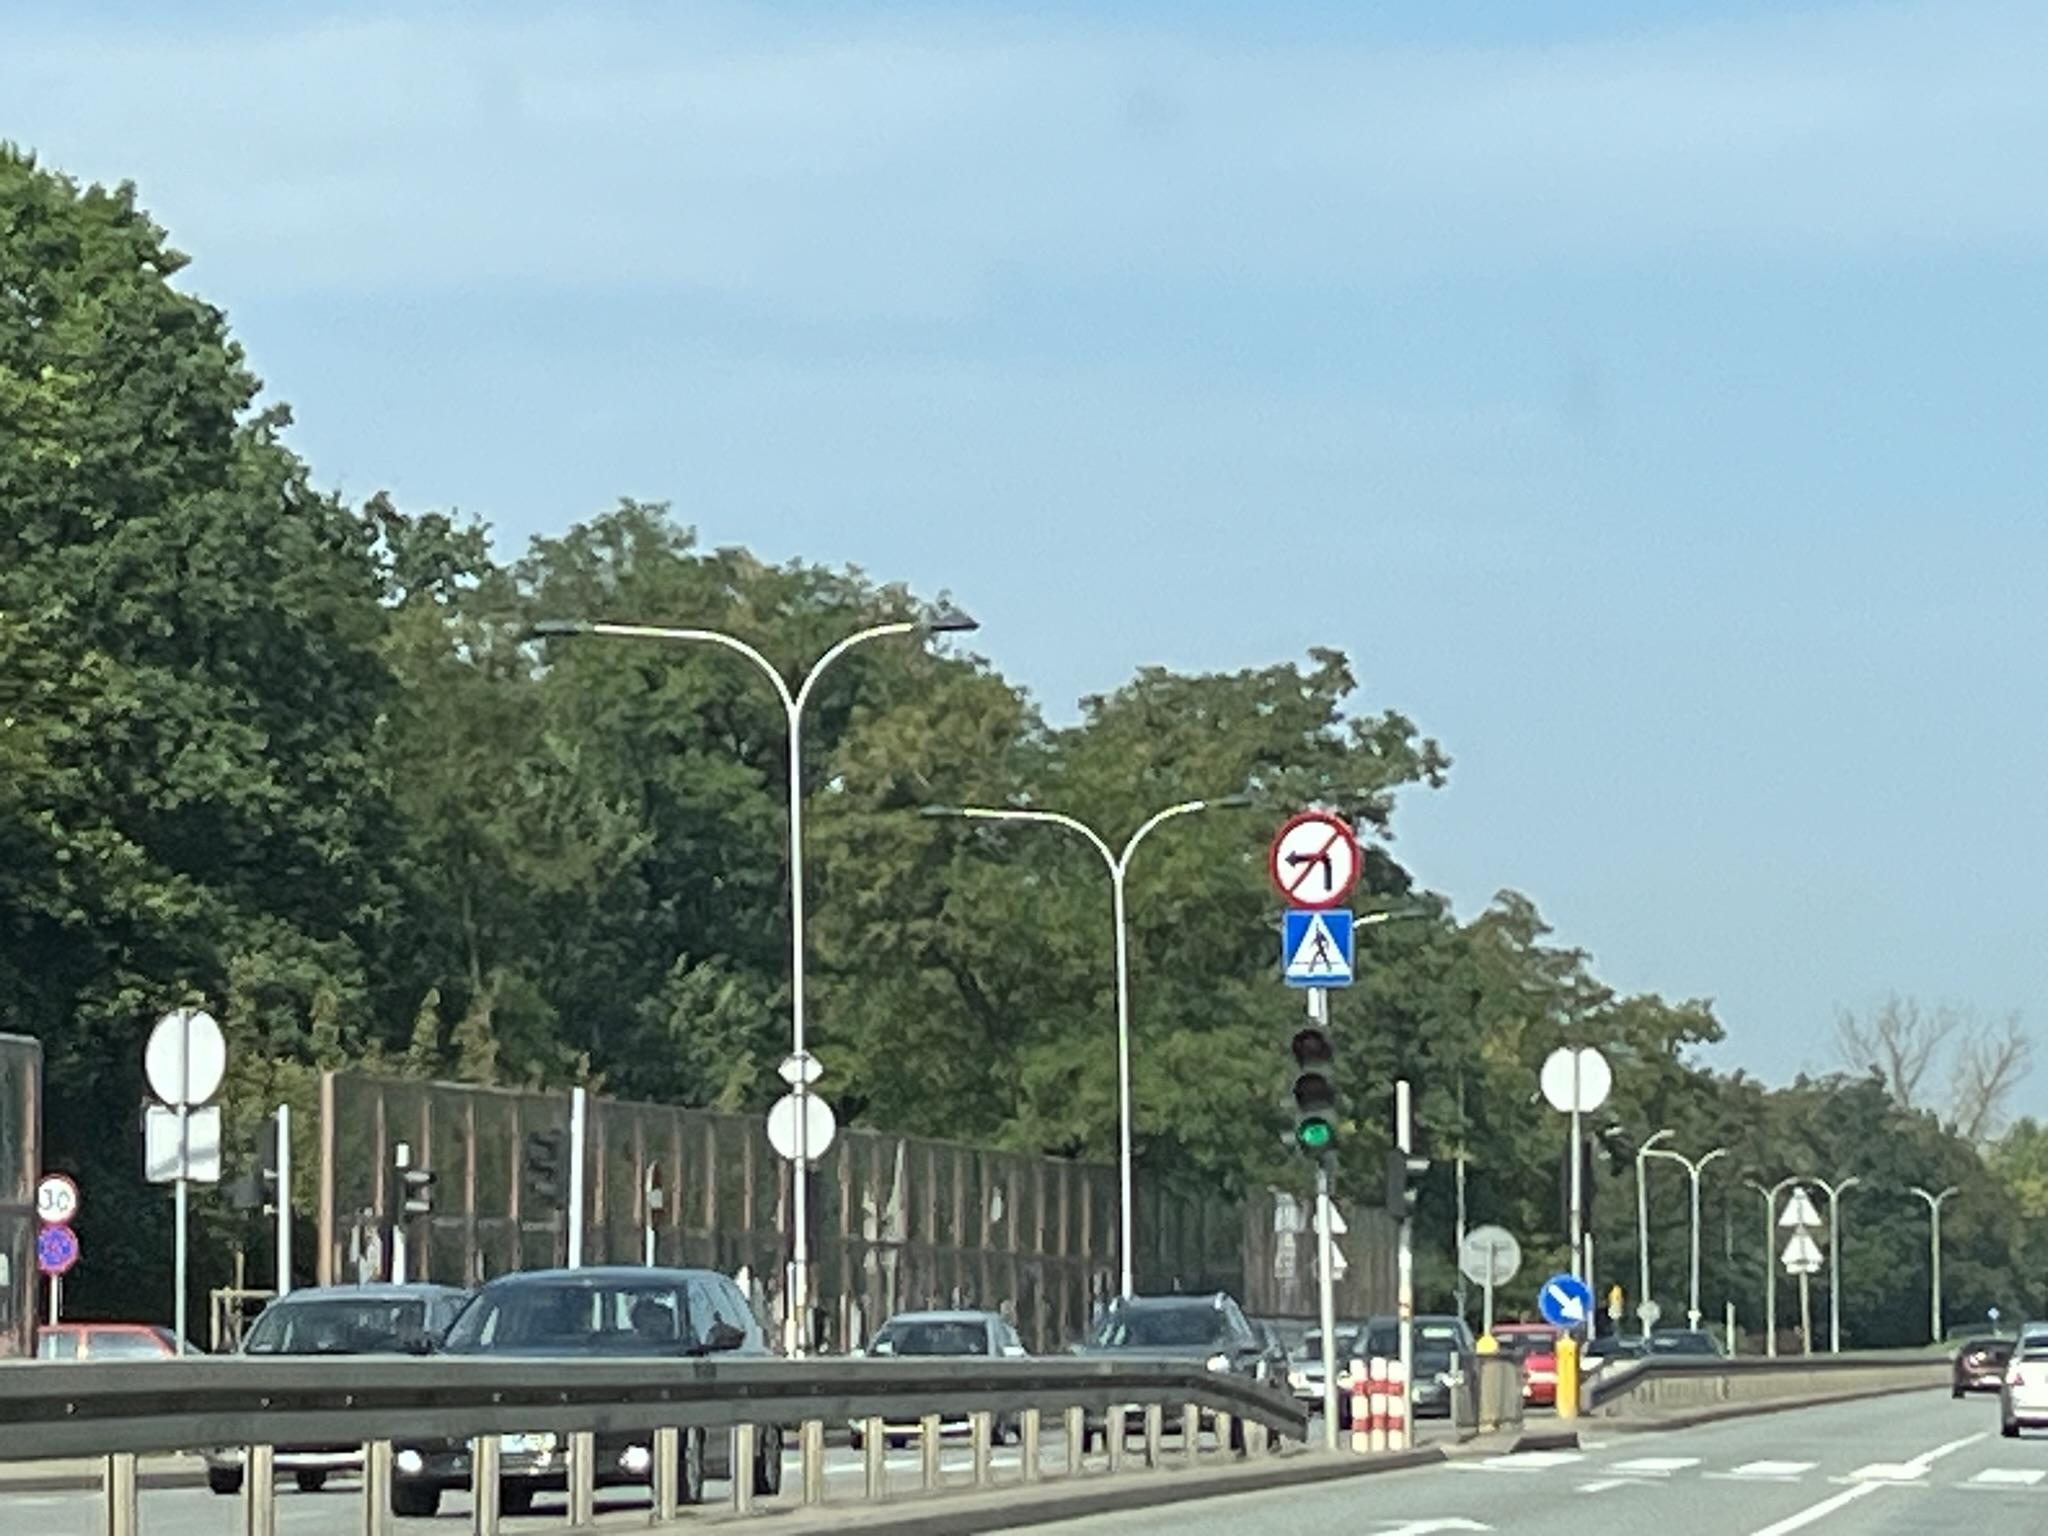information: (1282, 912, 1356, 989)
mandatory: (1537, 1275, 1593, 1329)
prohibitory: (1268, 808, 1361, 912), (32, 1225, 81, 1275), (35, 1173, 82, 1221)
